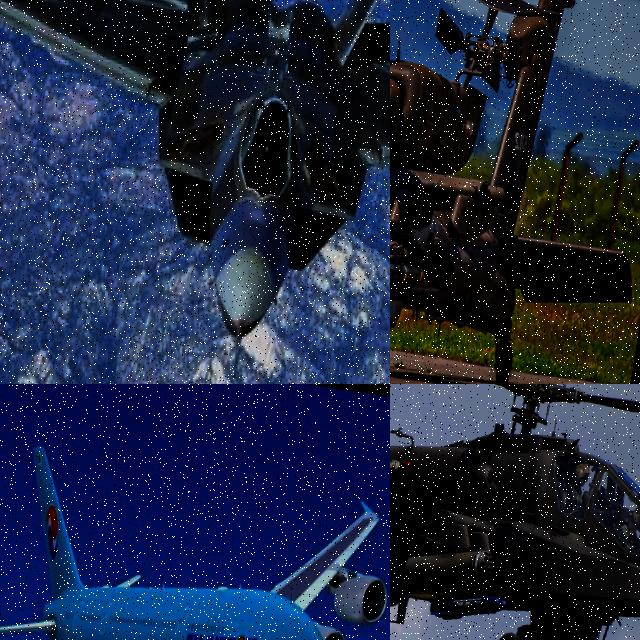A380: (0, 401, 390, 640)
Apache: (390, 0, 640, 384), (390, 384, 640, 640)
F22: (0, 0, 390, 378)
